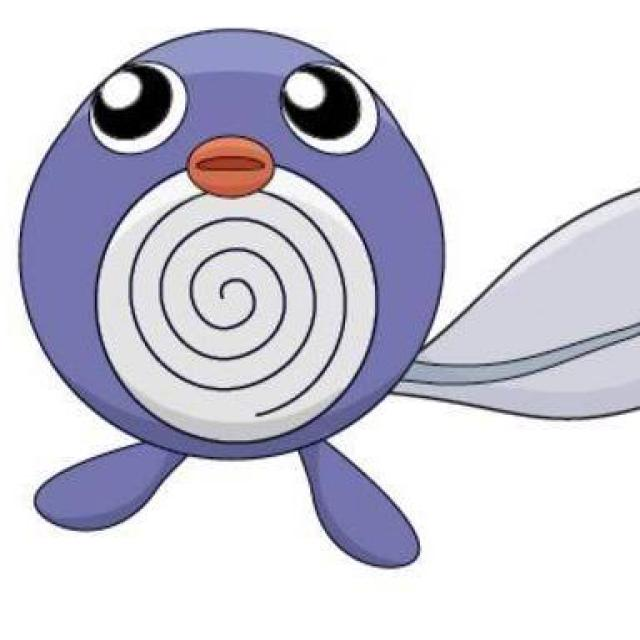Poliwag: (21, 19, 489, 586)
